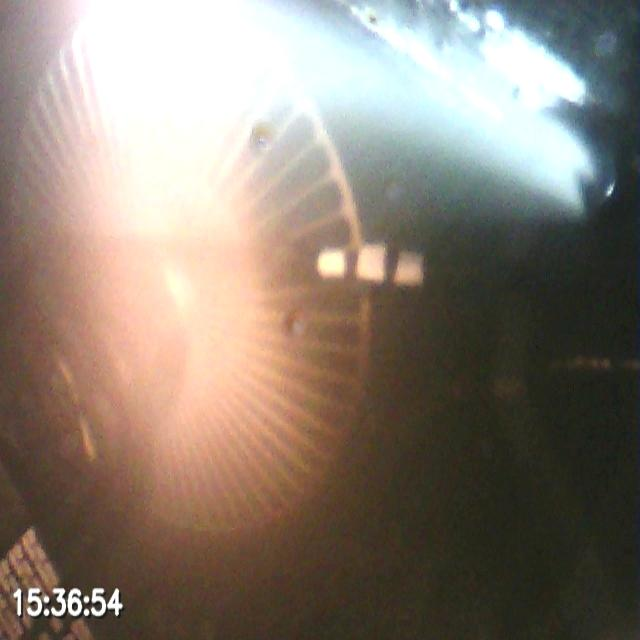white-dots: (314, 238, 426, 289)
